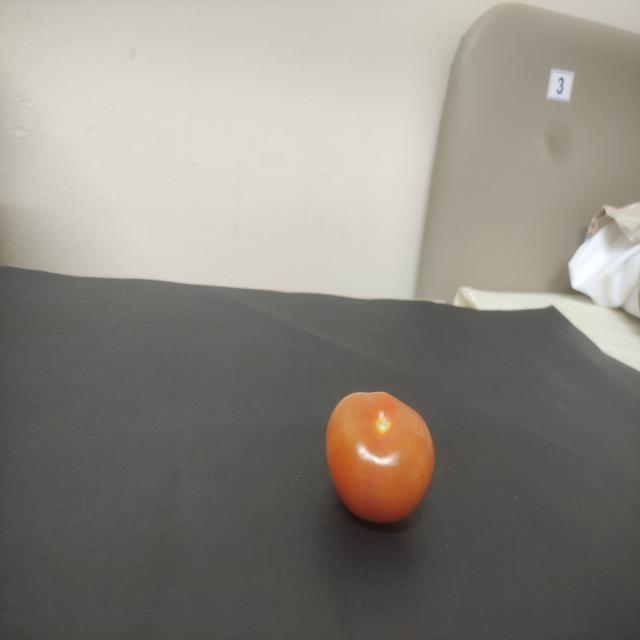sari: (314, 374, 446, 531)
